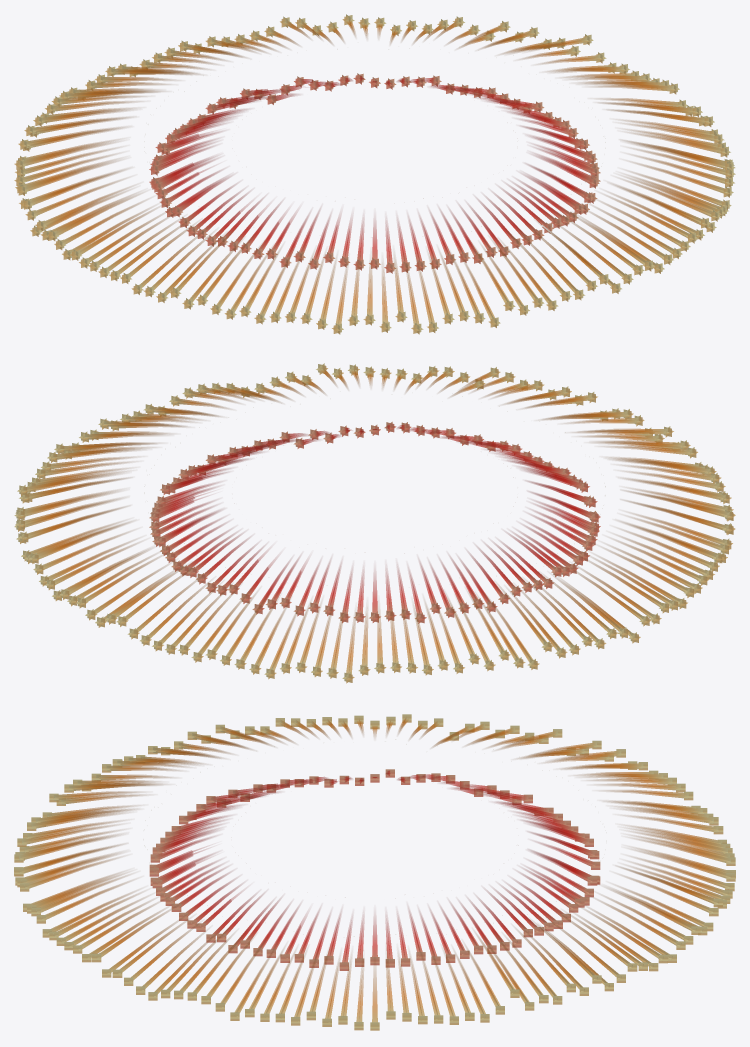
The model's file is fw_ring_gold_red_b.glb.
3 views of the same model, one above another, from view 1: azimuth 30°, elevation 25°; view 2: azimuth 150°, elevation 25°; view 3: azimuth 270°, elevation 25° (orthographic).
Parts seen in each view (by area): view 1: spire; view 2: spire; view 3: spire.
Part boxes in pixels (x1,y1,x2,y2): spire: (14, 14, 735, 334); spire: (14, 363, 735, 683); spire: (14, 714, 735, 1030).
Size of the model in its own units: 21.48 by 1.94 by 21.48.
2 materials, 2 textured.
